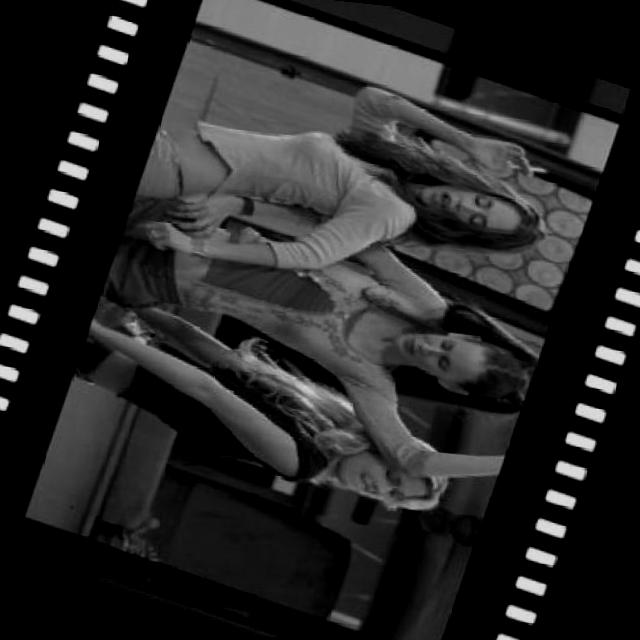smoke: (502, 154, 549, 181)
